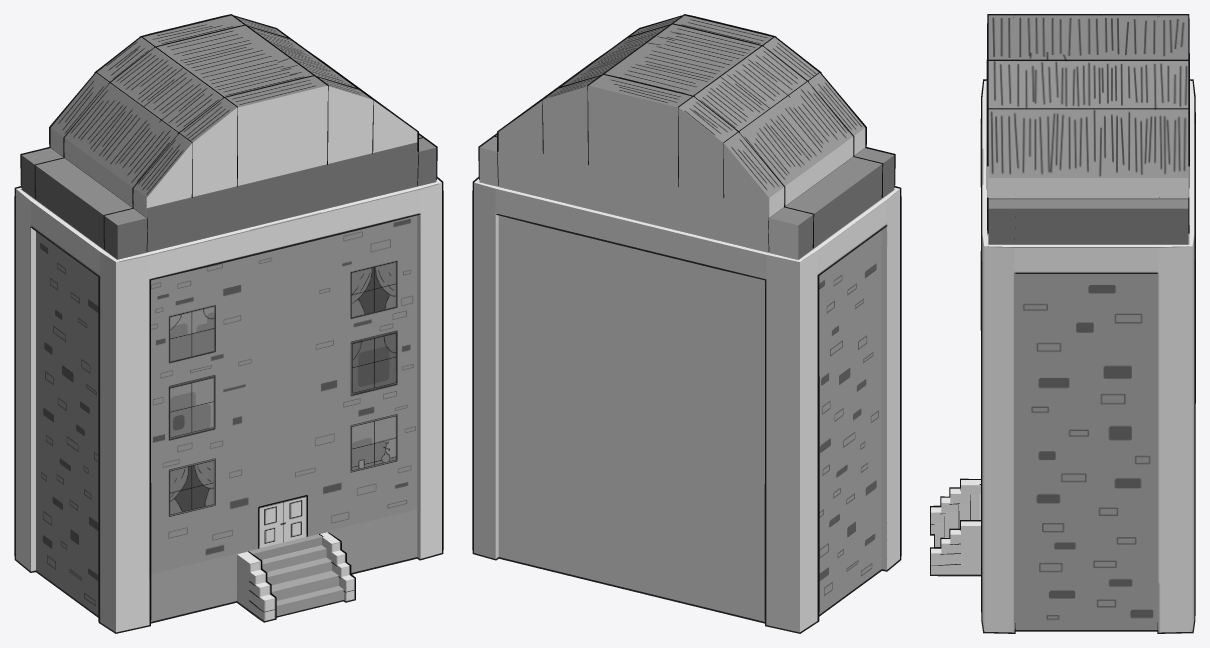
Rendered from Casa.fbx.
3 renders of one model, left to right at view 1: azimuth 30°, elevation 25°; view 2: azimuth 150°, elevation 25°; view 3: azimuth 270°, elevation 25°, orthographic. The views are drawn at different scales.
Parts seen in each view (by area): view 1: casa; view 2: casa; view 3: casa.
Boxes of the visible parts, x1,y1,x2,y2 form: casa: [14, 14, 443, 633]; casa: [472, 14, 901, 633]; casa: [930, 14, 1195, 633].
Bounding box in the file's own units: 469 × 670 × 313.
